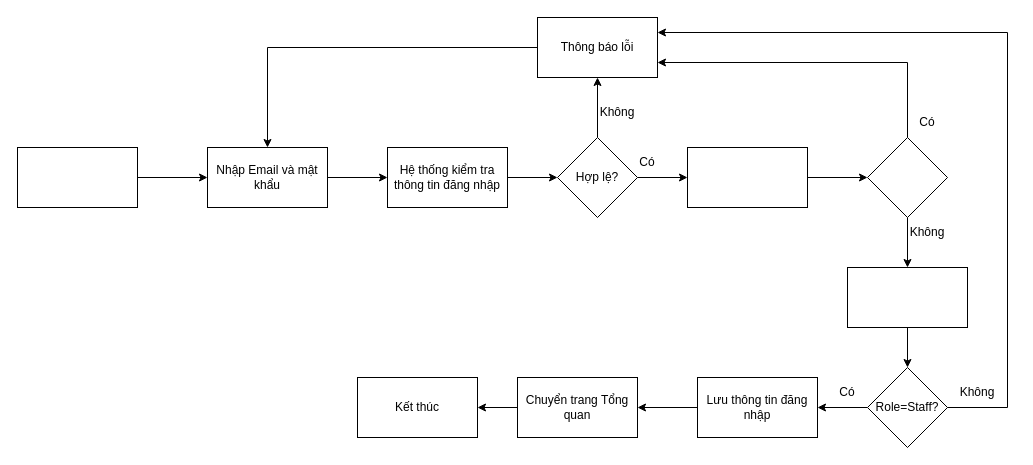
Some shapes in this 1033 by 465 pixel diagram are drawn without their labels. The shapes that lost their labels are listed below. From the top down, each one's centre as x and y in pixels, then its label:
(x=77, y=177): Truy cập trang đăng nhâp dành cho nhân viên
(x=747, y=177): Kiểm tra trạng thái tài khoản
(x=907, y=177): Bị Khóa ?
(x=907, y=297): Kiểm tra Role
